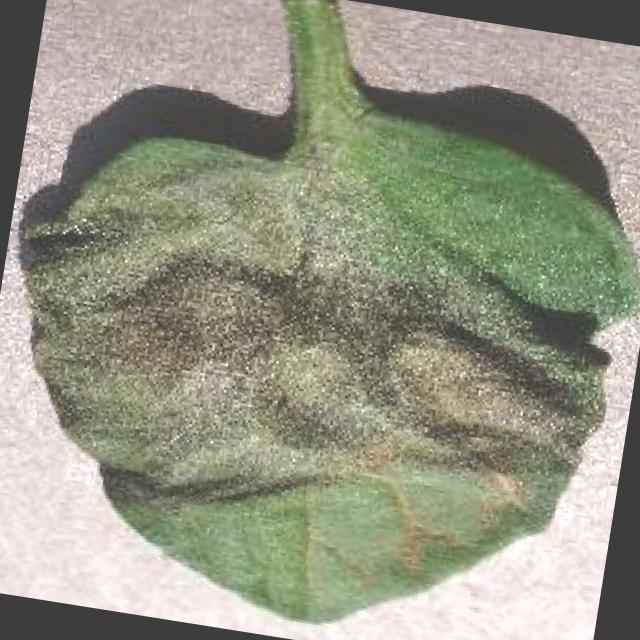leaf blight: (18, 0, 640, 625)
